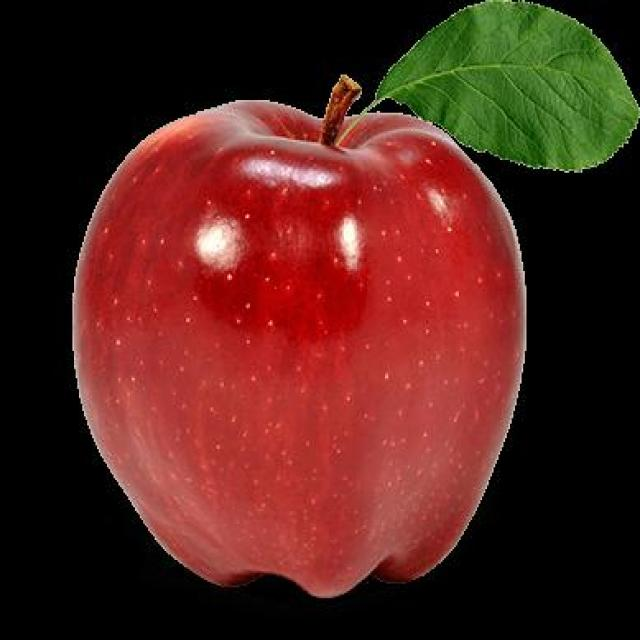Fresh Apple: (76, 109, 520, 604)
